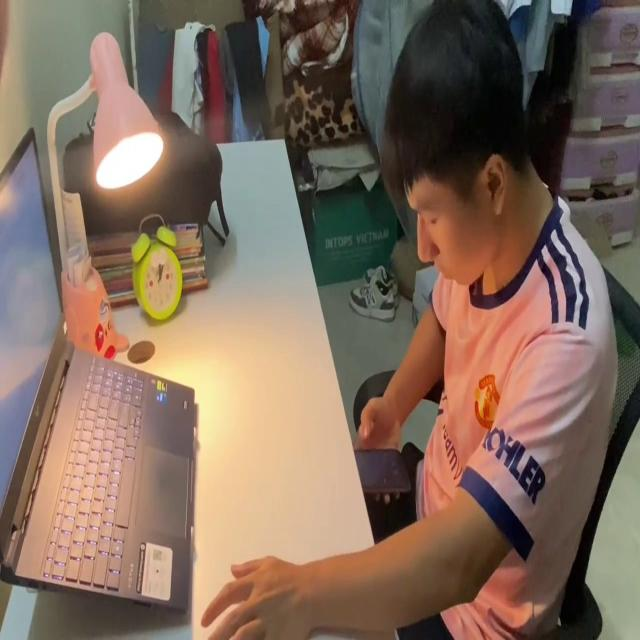laptop: (0, 124, 200, 622)
phone: (348, 445, 411, 501)
student: (195, 0, 640, 640)
